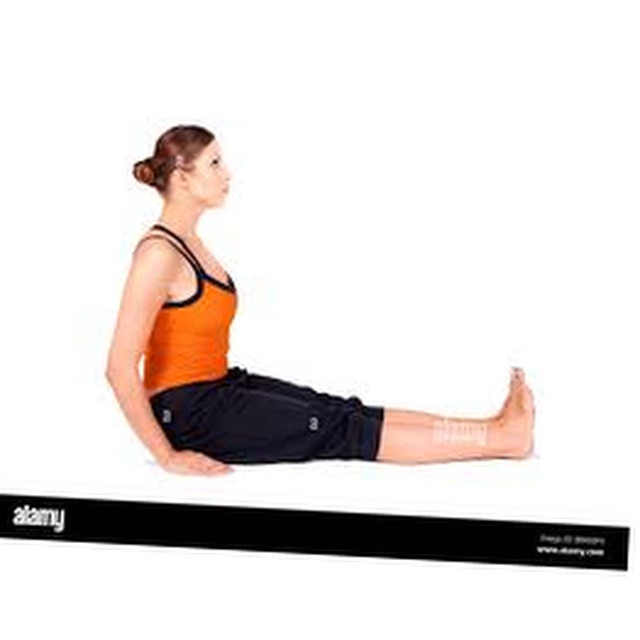Staff_Pose: (104, 126, 536, 477)
